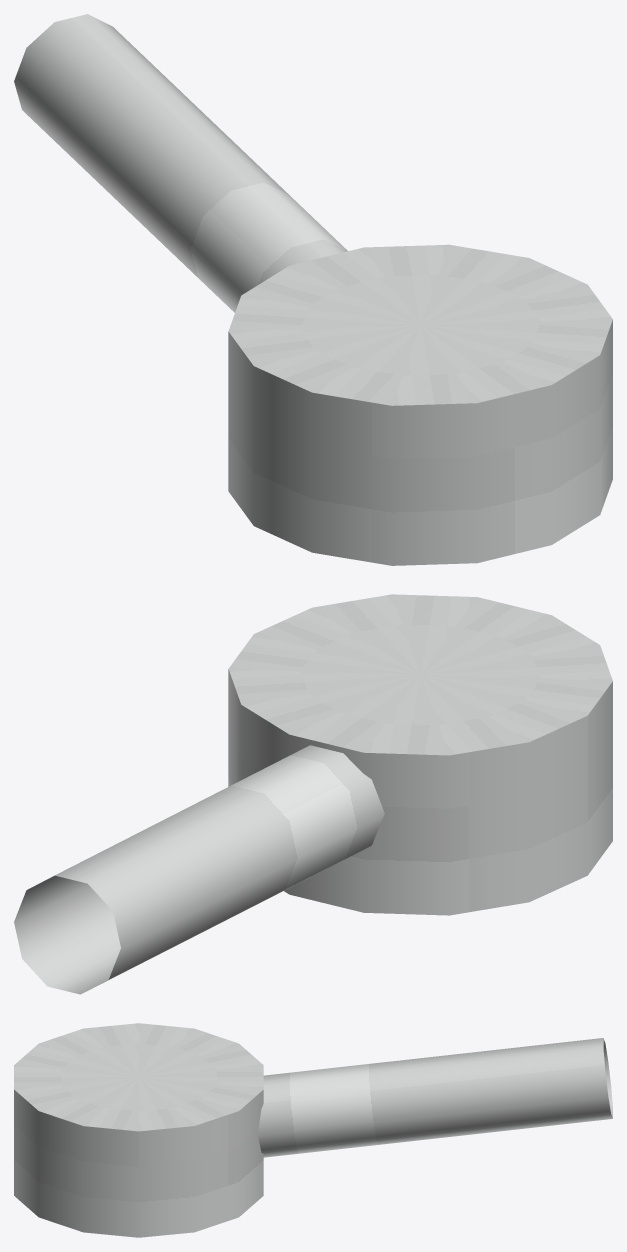
Rendered from trusssignalarm_level10_c1.obj.
3 renders of one model, top to bottom at view 1: azimuth 30°, elevation 25°; view 2: azimuth 150°, elevation 25°; view 3: azimuth 270°, elevation 25°, orthographic. The views are drawn at different scales.
Visible parts, largest first — view 1: trusssignalarm_level10_c1; view 2: trusssignalarm_level10_c1; view 3: trusssignalarm_level10_c1.
Boxes of the visible parts, box(x1,y1,x2,y2) form: trusssignalarm_level10_c1: box(14, 14, 612, 565); trusssignalarm_level10_c1: box(14, 594, 612, 994); trusssignalarm_level10_c1: box(14, 1023, 612, 1237).
Size of the model in its own units: 0.8188 by 0.4952 by 1.91.
